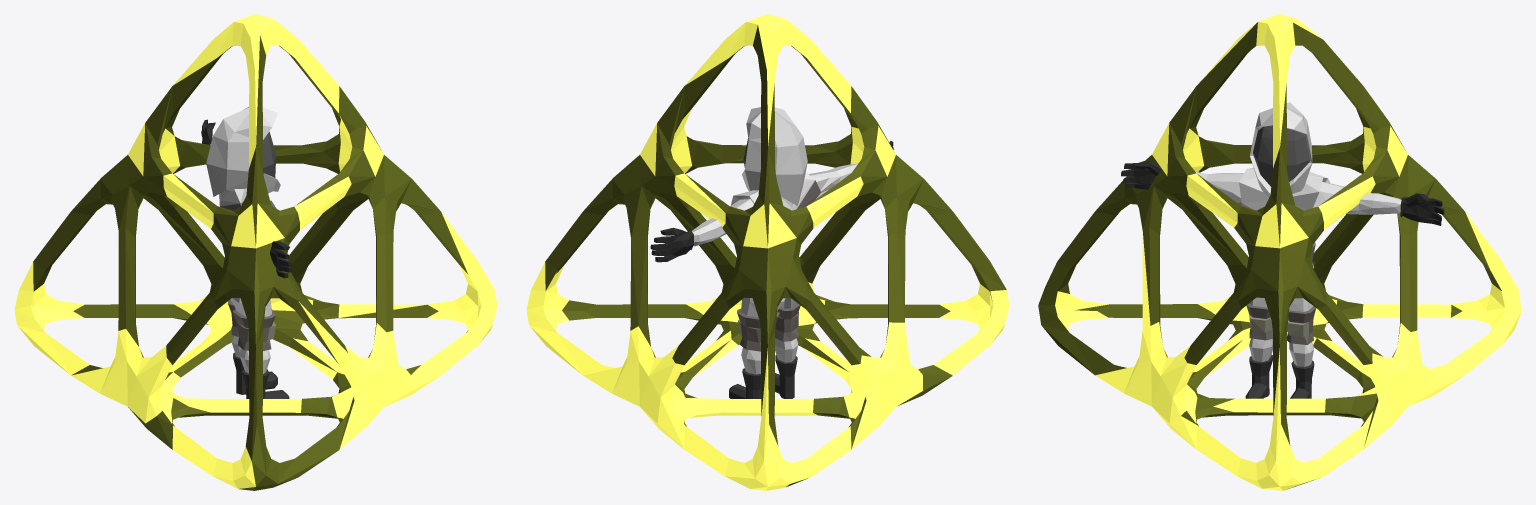
File: bat-net-with-troop.fbx
3 renders of one model, left to right at view 1: azimuth 30°, elevation 25°; view 2: azimuth 150°, elevation 25°; view 3: azimuth 270°, elevation 25°, orthographic.
Parts seen in each view (by area): view 1: Solid, Cube.001; view 2: Solid, Cube.001; view 3: Solid, Cube.001.
Part boxes in pixels (x1=…): Solid: x1=14, y1=14, x2=497, y2=490; Cube.001: x1=201, y1=107, x2=291, y2=398; Solid: x1=526, y1=14, x2=1009, y2=490; Cube.001: x1=650, y1=107, x2=893, y2=398; Solid: x1=1038, y1=14, x2=1521, y2=490; Cube.001: x1=1121, y1=102, x2=1444, y2=398.
Bounding box in the file's own units: 1002 × 988 × 1121.
